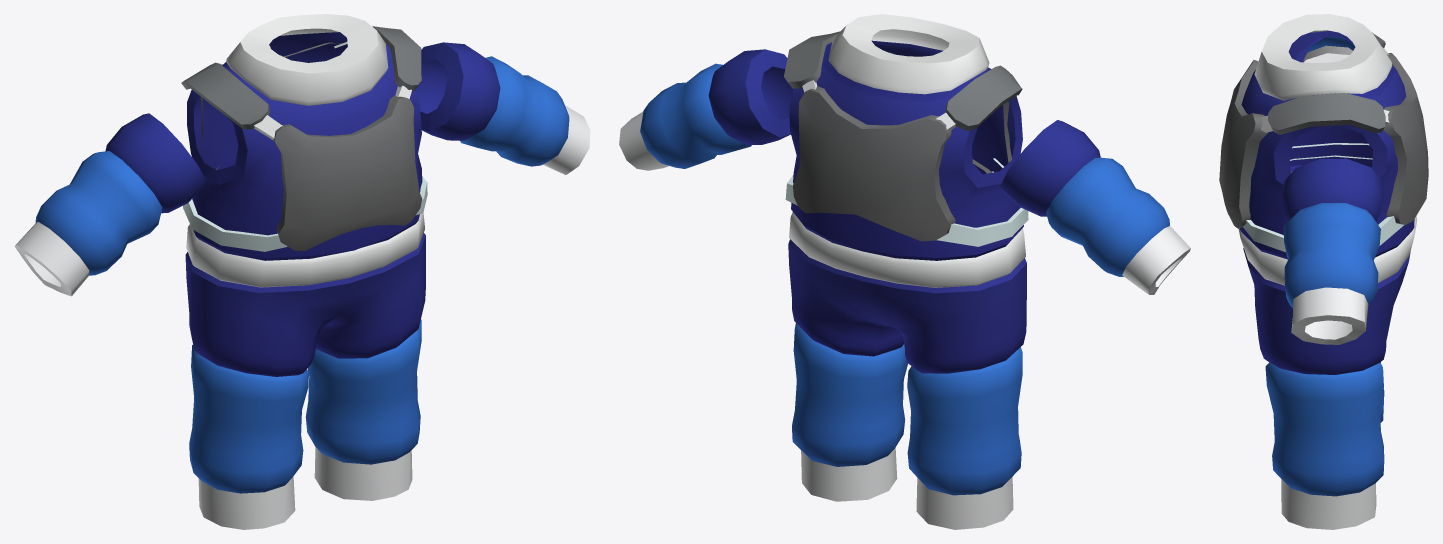
The model's file is Outfit_08.glb.
3 renders of one model, left to right at view 1: azimuth 30°, elevation 25°; view 2: azimuth 150°, elevation 25°; view 3: azimuth 270°, elevation 25°, orthographic. The views are drawn at different scales.
Parts seen in each view (by area): view 1: Outfit_08; view 2: Outfit_08; view 3: Outfit_08.
Boxes of the visible parts, x1=… form: Outfit_08: x1=14, y1=14, x2=590, y2=529; Outfit_08: x1=619, y1=14, x2=1190, y2=529; Outfit_08: x1=1219, y1=14, x2=1428, y2=529.
Size of the model in its own units: 0.642 by 0.5054 by 0.2175.
1 material, 1 textured.
